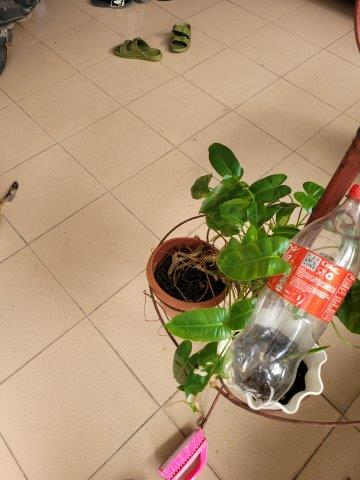botolplastik: (230, 183, 360, 411)
